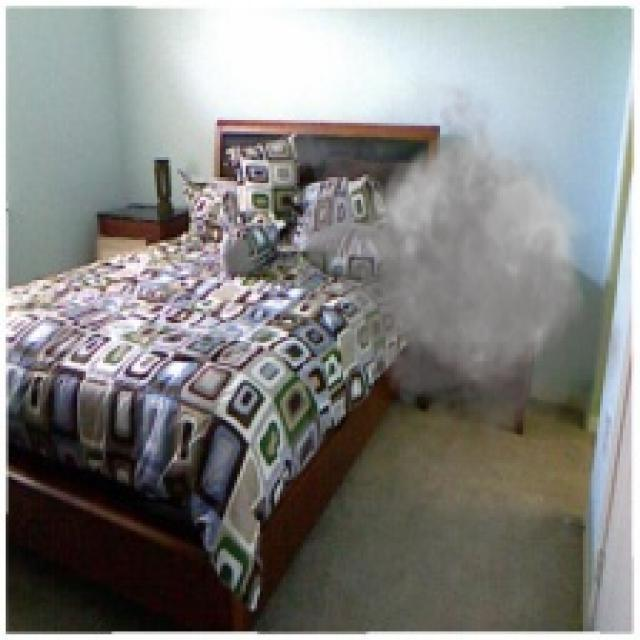Smoke: (272, 60, 637, 457)
